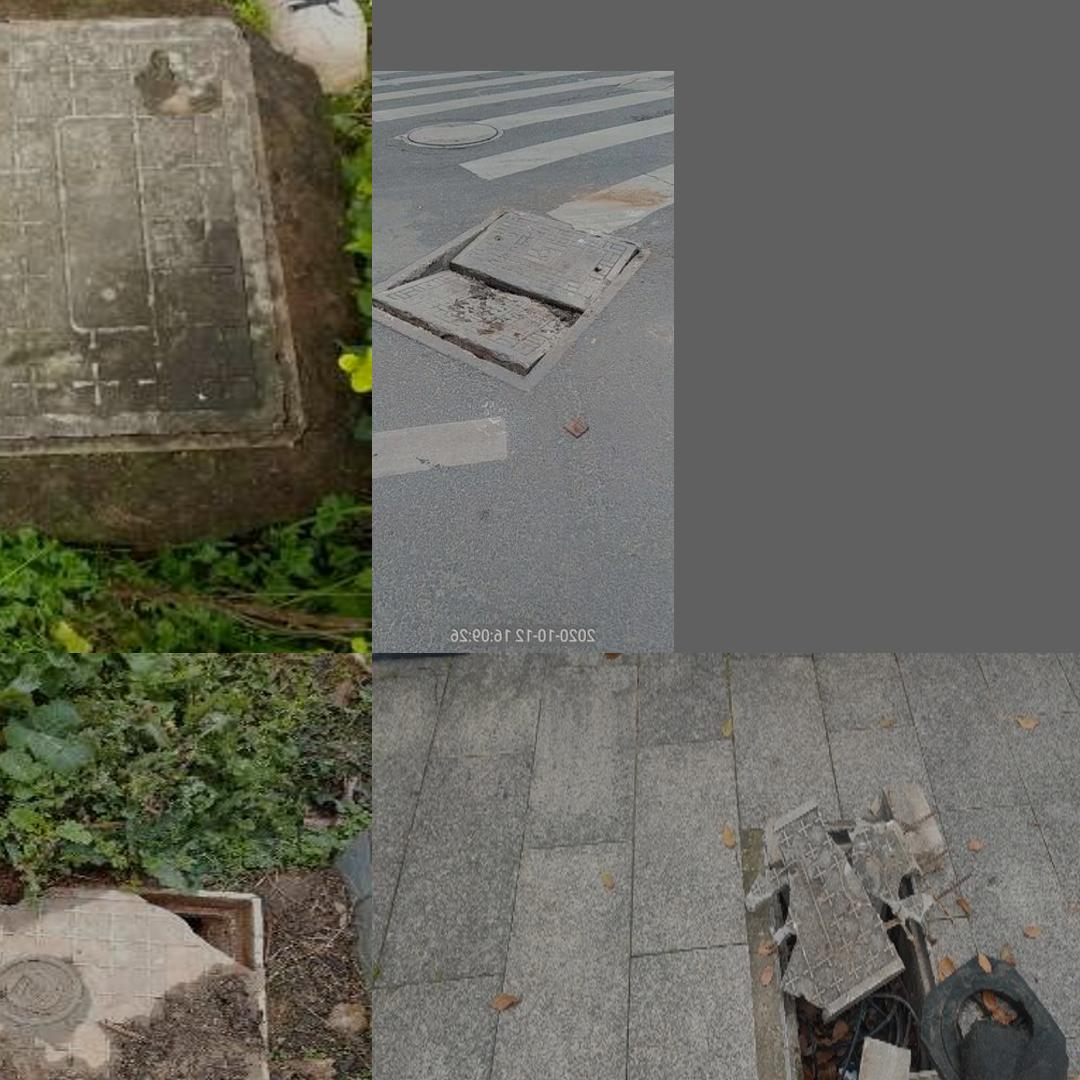broke: (0, 31, 293, 445), (378, 176, 648, 403), (765, 778, 948, 1080), (0, 875, 269, 1080)
